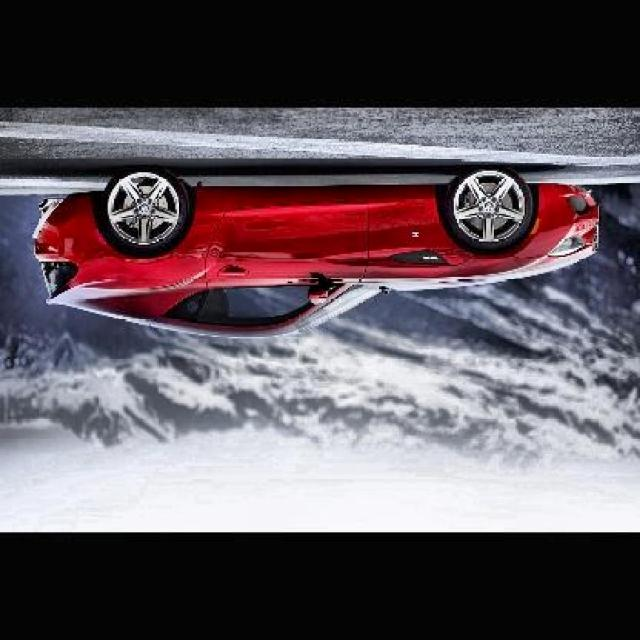red: (29, 165, 602, 356)
